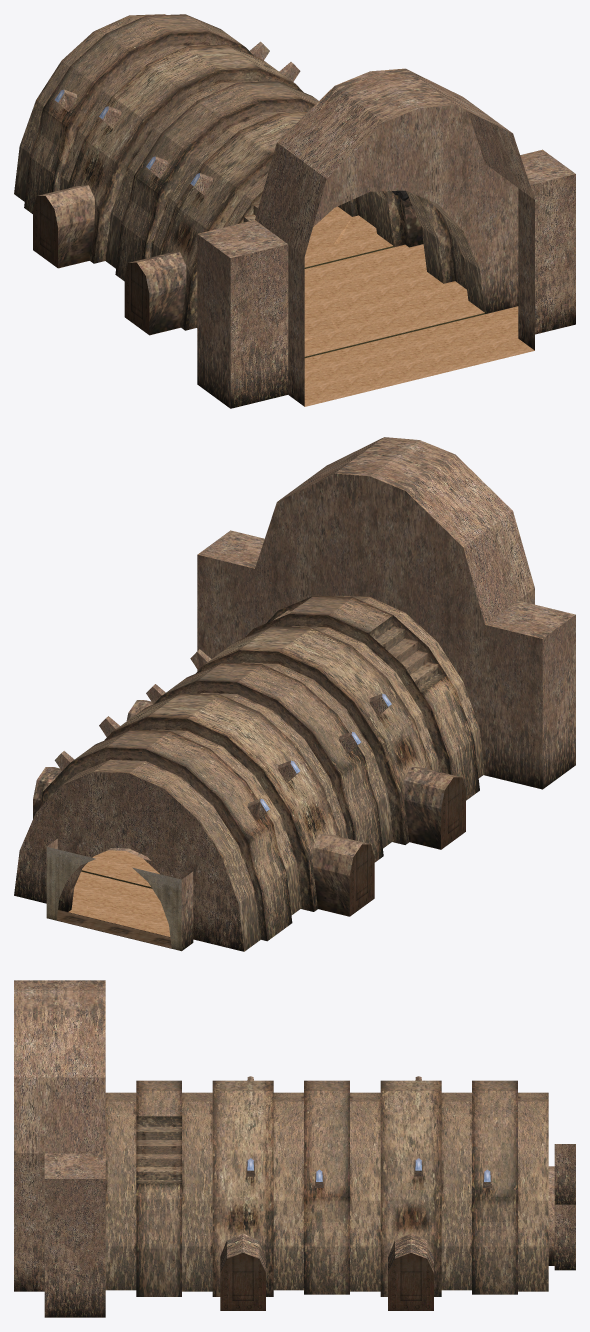
The model's file is thm_tato_jabbas_palace_r1_foyer_mesh_l1.fbx.
3 views of the same model, one above another, from view 1: azimuth 30°, elevation 25°; view 2: azimuth 150°, elevation 25°; view 3: azimuth 270°, elevation 25° (orthographic). The views are drawn at different scales.
Parts seen in each view (by area): view 1: mesh_node; view 2: mesh_node; view 3: mesh_node.
Part boxes in pixels (x1,y1,x2,y2): mesh_node: [14, 14, 575, 408]; mesh_node: [14, 437, 575, 951]; mesh_node: [14, 980, 575, 1317].
Bounding box in the file's own units: 24 × 18 × 36.8.
